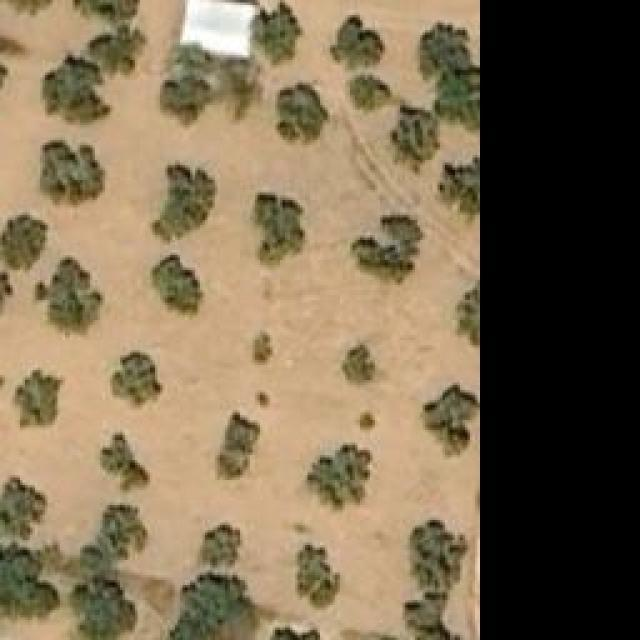Tree: (350, 215, 425, 295), (148, 160, 218, 245), (35, 258, 103, 331), (243, 192, 306, 270), (35, 140, 105, 208), (308, 445, 373, 508), (40, 65, 108, 125), (420, 385, 478, 455), (170, 580, 235, 640), (323, 15, 386, 73), (153, 255, 206, 320), (0, 547, 52, 612), (275, 83, 328, 146), (73, 585, 133, 640), (413, 20, 473, 73), (435, 155, 478, 228), (218, 410, 261, 480), (295, 545, 340, 610), (15, 370, 65, 428), (88, 25, 148, 73), (435, 65, 483, 125), (415, 523, 460, 586), (100, 432, 148, 490), (113, 350, 163, 405), (2, 215, 50, 270), (387, 108, 435, 161), (95, 502, 145, 550), (342, 340, 390, 388), (0, 483, 38, 536), (70, 540, 115, 583), (203, 523, 243, 568), (453, 280, 478, 350), (348, 73, 393, 108), (75, 0, 135, 22), (253, 333, 273, 366), (353, 410, 378, 433)
